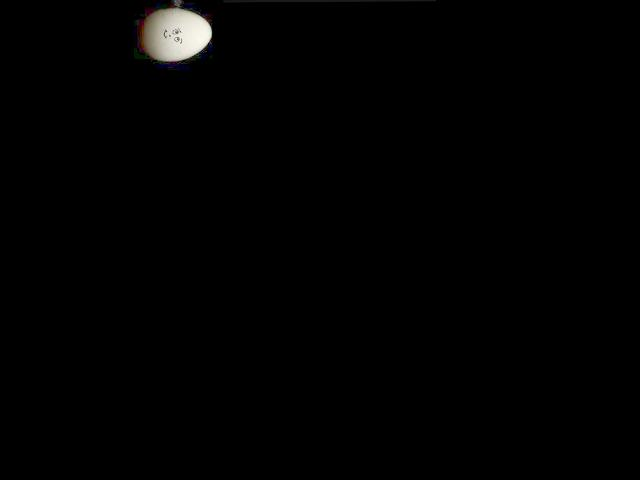egg: (141, 9, 212, 61)
